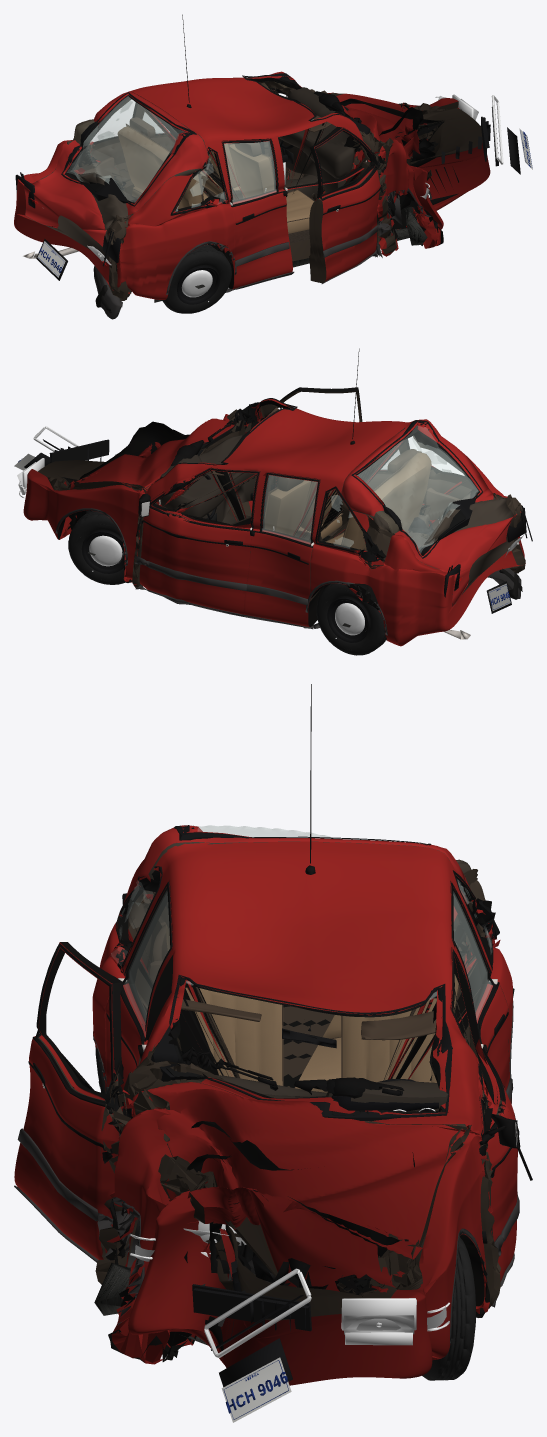
File: hatchback85_front_corner_R_d3_lod1.glb
3 views of the same model, one above another, from view 1: azimuth 30°, elevation 25°; view 2: azimuth 150°, elevation 25°; view 3: azimuth 270°, elevation 25° (orthographic). The views are drawn at different scales.
Visible parts, largest first — view 1: Body, Interior, Hatch, Glass_Hatch, Door_FR, Door_RR, Ends, Wheel_RR_mesh, Hood, Glass_RR, Trim, Trim_FR (+5 smaller); view 2: Body, Interior, Door_FL, Hatch, Glass_Hatch, Door_RL, Hood, Wheel_RL_mesh, Wheel_FL_mesh, Ends, Glass_RL, Trim_FL (+7 smaller); view 3: Body, Hood, Interior, Door_FR, Ends, Glass, Trim, Door_FL, Trim_FR, Wheel_FL_mesh, Door_RR, Door_RL (+9 smaller).
Part boxes in pixels (box(x1,y1,x2,y2)): Body: box(14, 71, 490, 300); Interior: box(83, 82, 355, 244); Hatch: box(24, 91, 208, 261); Glass_Hatch: box(61, 92, 196, 206); Door_FR: box(309, 126, 380, 282); Door_RR: box(221, 138, 292, 289); Ends: box(15, 94, 532, 280); Wheel_RR_mesh: box(162, 244, 231, 313); Hood: box(333, 93, 427, 165); Glass_RR: box(222, 140, 278, 204); Trim: box(87, 14, 437, 294); Trim_FR: box(314, 128, 390, 283); Body: box(23, 399, 525, 646); Interior: box(160, 407, 460, 550); Door_FL: box(134, 467, 260, 614); Hatch: box(341, 419, 515, 606); Glass_Hatch: box(351, 420, 482, 558); Door_RL: box(243, 472, 320, 626); Hood: box(67, 416, 234, 489); Wheel_RL_mesh: box(316, 583, 386, 655); Wheel_FL_mesh: box(68, 511, 125, 584); Ends: box(14, 426, 532, 613); Glass_RL: box(259, 475, 320, 544); Trim_FL: box(134, 468, 259, 616); Body: box(92, 841, 514, 1385); Hood: box(145, 1082, 466, 1291); Interior: box(148, 922, 459, 1111); Door_FR: box(14, 942, 123, 1259); Ends: box(122, 893, 449, 1422); Glass: box(111, 870, 499, 1121); Trim: box(93, 684, 513, 1343); Door_FL: box(450, 947, 517, 1306); Trim_FR: box(14, 943, 119, 1262); Wheel_FL_mesh: box(422, 1237, 475, 1380); Door_RR: box(105, 880, 172, 1092); Door_RL: box(450, 881, 511, 1104).
Bounding box in the file's own units: 4.25 × 2.19 × 2.07.
32 materials, 5 textured.
